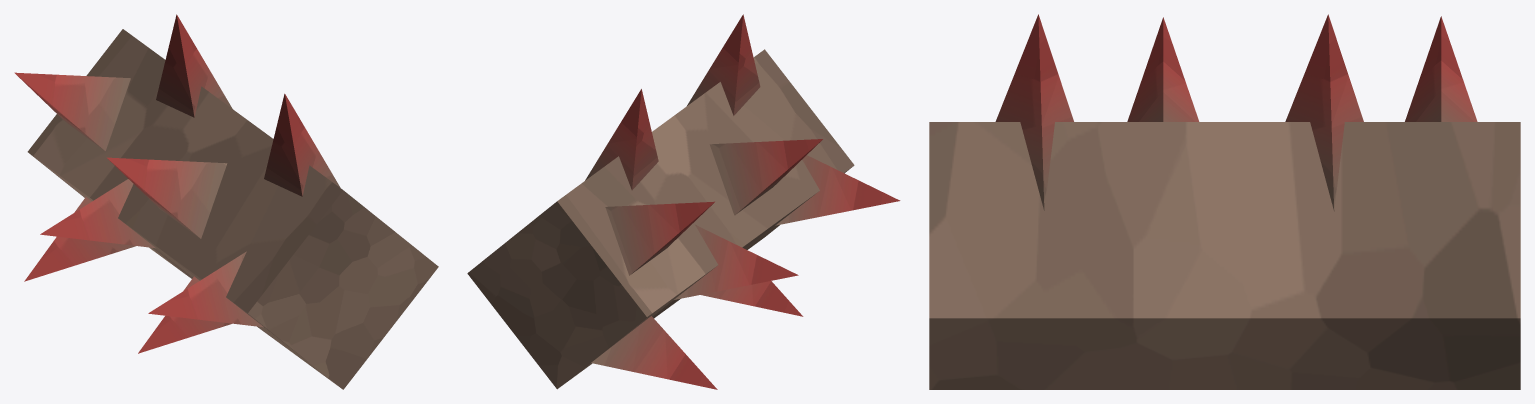
Rendered from toge.fbx.
3 views of the same model, side by side, from view 1: azimuth 30°, elevation 25°; view 2: azimuth 150°, elevation 25°; view 3: azimuth 270°, elevation 25° (orthographic). The views are drawn at different scales.
Parts seen in each view (by area): view 1: pCone11; view 2: pCone11; view 3: pCone11.
Part boxes in pixels (x1,y1,x2,y2): pCone11: (14, 14, 438, 389); pCone11: (467, 14, 900, 389); pCone11: (929, 14, 1520, 389).
Size of the model in its own units: 0.6953 by 0.6793 by 1.
1 material, 1 textured.
